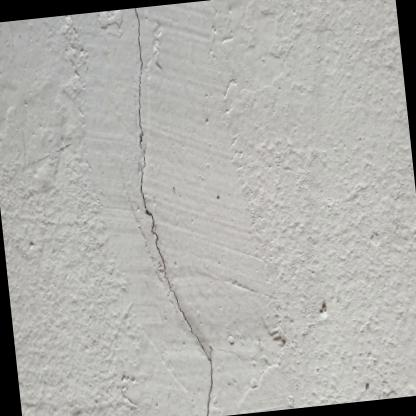crack: (132, 6, 213, 416)
